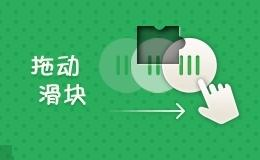target: (114, 6, 158, 44)
